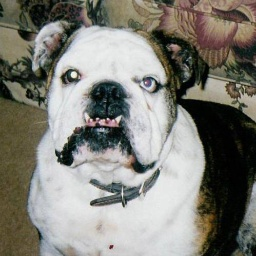dog: (13, 17, 245, 256)
